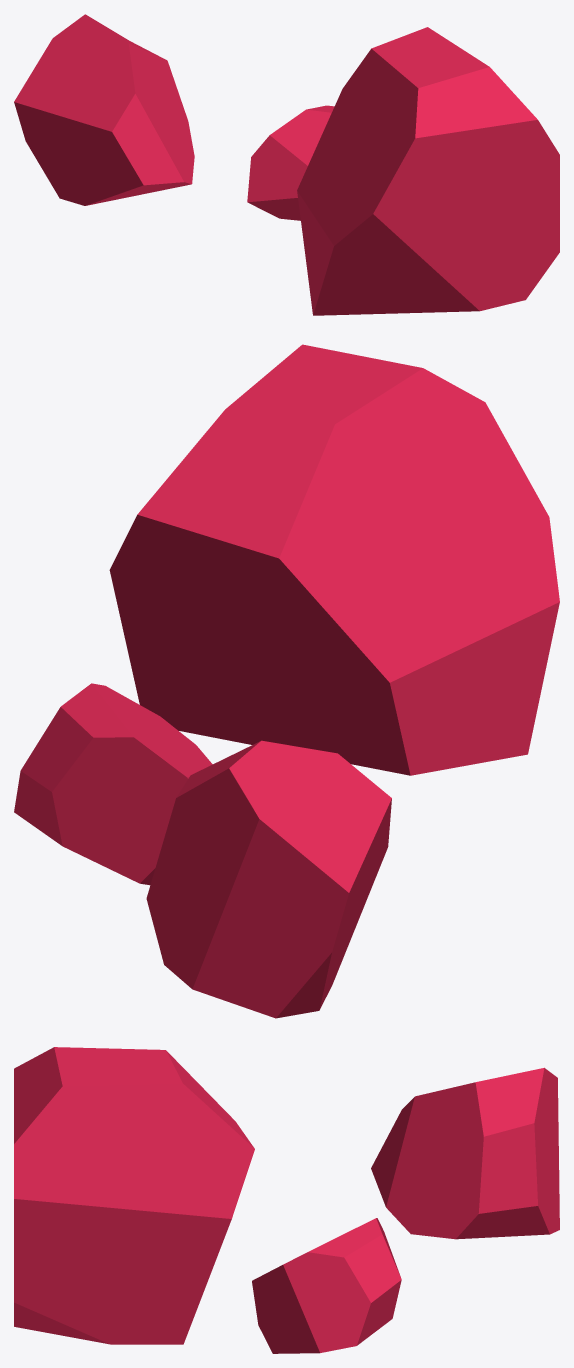
The model's file is pedrinhas1_Mdl_Dec_GZ.fbx.
3 views of the same model, one above another, from view 1: azimuth 30°, elevation 25°; view 2: azimuth 150°, elevation 25°; view 3: azimuth 270°, elevation 25° (orthographic). The views are drawn at different scales.
Visible parts, largest first — view 1: pedrinhas; view 2: pedrinhas; view 3: pedrinhas.
Part boxes in pixels (x1,y1,x2,y2): pedrinhas: (14,14,559,315); pedrinhas: (14,344,559,1018); pedrinhas: (14,1047,559,1353).
Bounding box in the file's own units: 31.46 × 23.86 × 45.83.
